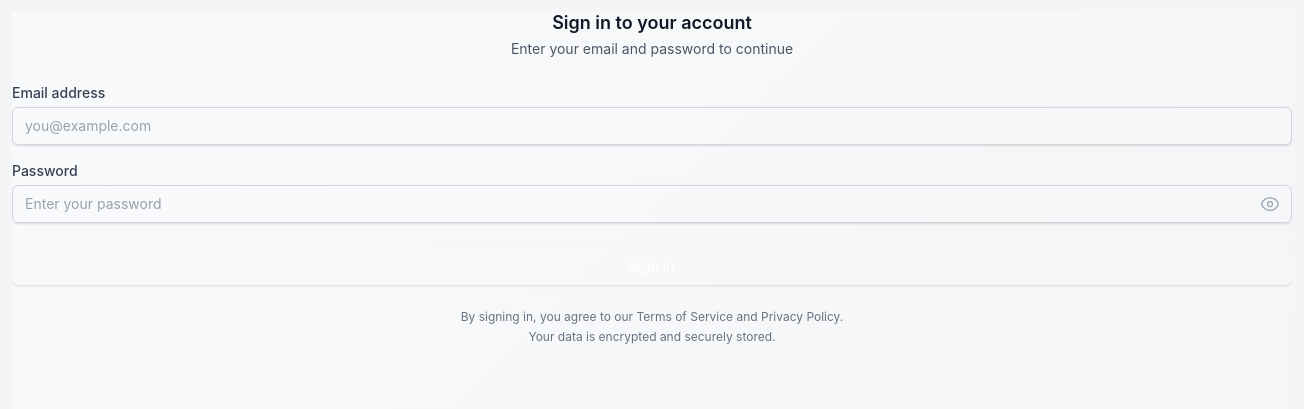
Test: PasswordLoginForm › Edge Cases › should handle empty form submission
This screenshot has width=1304, height=409.
Step 1. Click the button "Sign in" → (652,266), box [12, 246, 1292, 284]
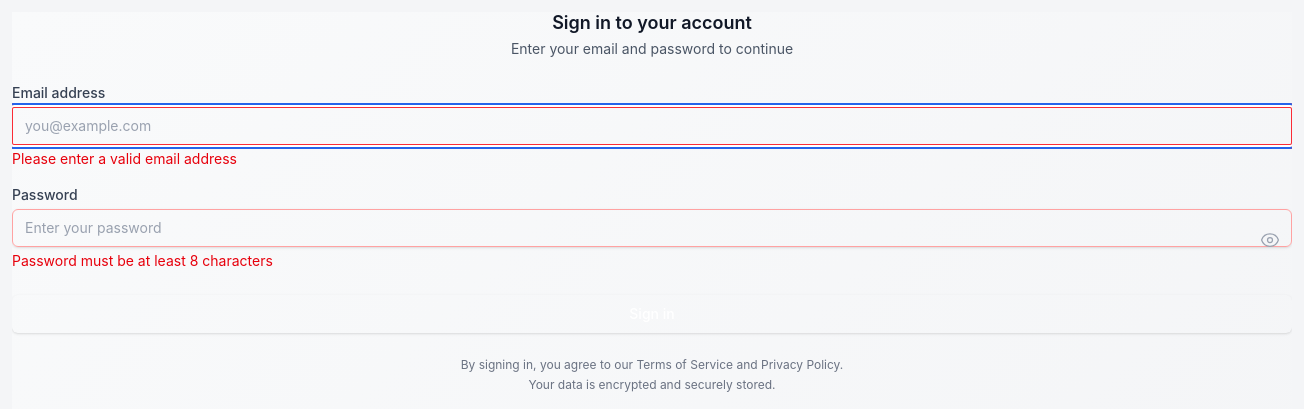
Expected: the text "Please enter a valid email address" is shown, [12, 150, 237, 166]
Expected: the text "Password must be at least 8 characters" is shown, [12, 252, 273, 268]
